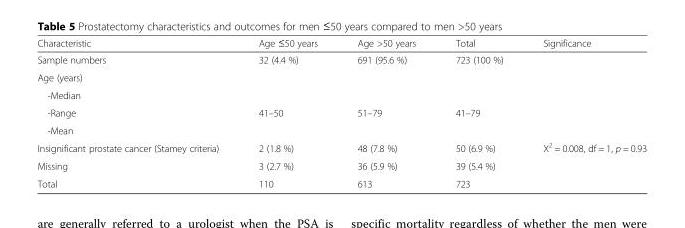table: (36, 36, 646, 188)
table column: (36, 36, 238, 188), (522, 36, 646, 188), (238, 36, 336, 188), (336, 36, 434, 188), (434, 36, 522, 188)
table column header: (36, 36, 646, 51)
table row: (36, 85, 646, 103), (36, 103, 646, 121), (36, 138, 646, 156), (36, 156, 646, 174), (36, 51, 646, 68), (36, 68, 646, 85), (36, 121, 646, 138), (36, 36, 646, 51), (36, 174, 646, 188)
table spanning cell: (36, 85, 522, 103), (36, 68, 522, 85), (522, 138, 646, 188), (238, 103, 336, 138), (336, 103, 434, 138), (434, 103, 522, 138)
